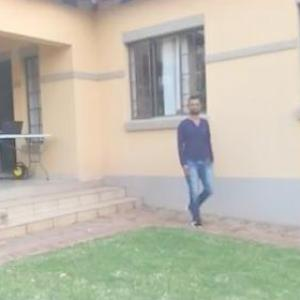follow: (166, 88, 210, 233)
